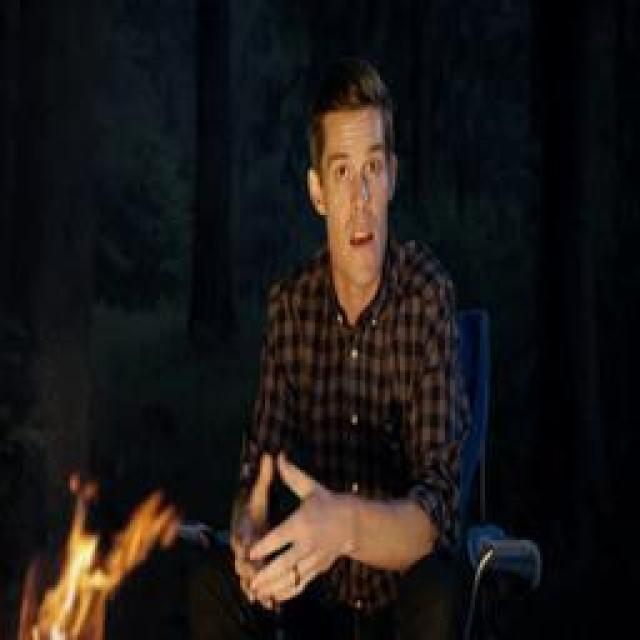Fire: (25, 475, 183, 640)
